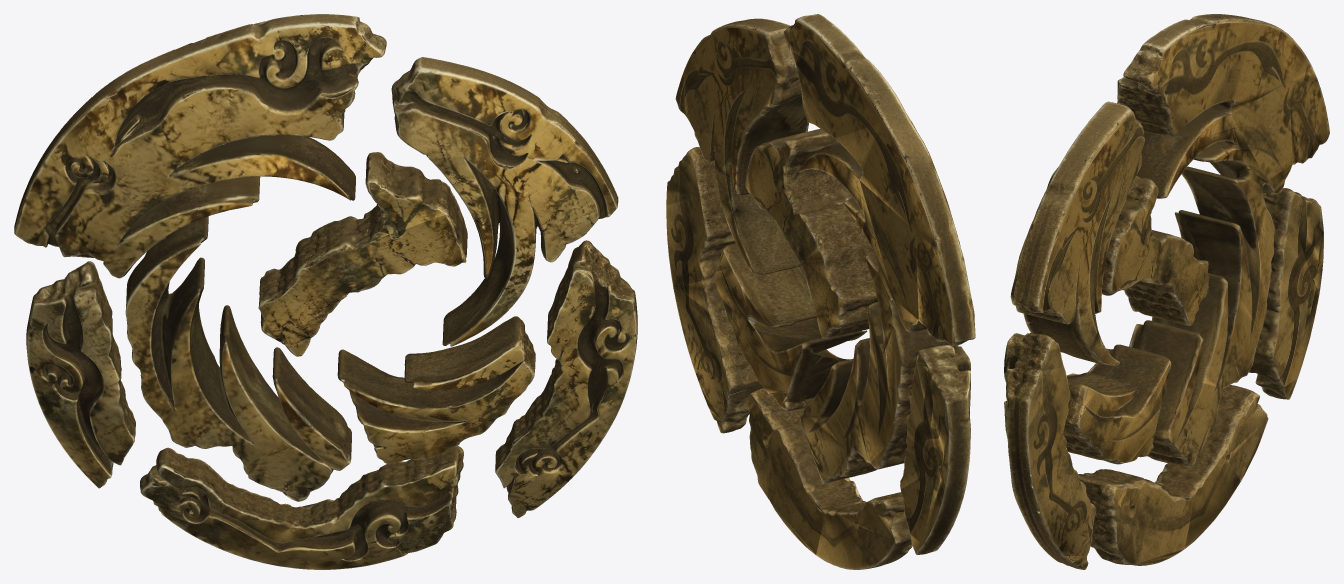
Rendered from 14-sunbird-fragment.glb.
The picture shows the model from 3 angles, left to right: view 1: azimuth 30°, elevation 25°; view 2: azimuth 150°, elevation 25°; view 3: azimuth 270°, elevation 25°; orthographic projection. The views are drawn at different scales.
Parts seen in each view (by area): view 1: Meshy_AI_Fractured_Golden_Reli_0817195200_texture; view 2: Meshy_AI_Fractured_Golden_Reli_0817195200_texture; view 3: Meshy_AI_Fractured_Golden_Reli_0817195200_texture.
Boxes of the visible parts, x1=… form: Meshy_AI_Fractured_Golden_Reli_0817195200_texture: x1=14, y1=14, x2=637, y2=569; Meshy_AI_Fractured_Golden_Reli_0817195200_texture: x1=666, y1=14, x2=975, y2=569; Meshy_AI_Fractured_Golden_Reli_0817195200_texture: x1=1004, y1=14, x2=1329, y2=569.
Bounding box in the file's own units: 0.6023 × 0.6682 × 0.3816.
1 material, 1 textured.
